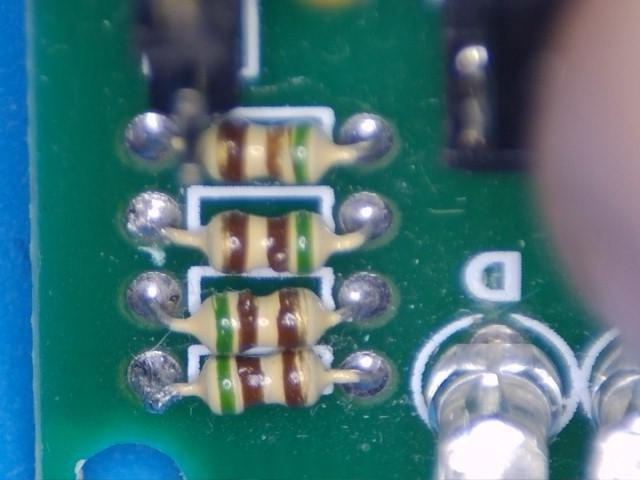pcb_defect: (130, 352, 181, 413)
